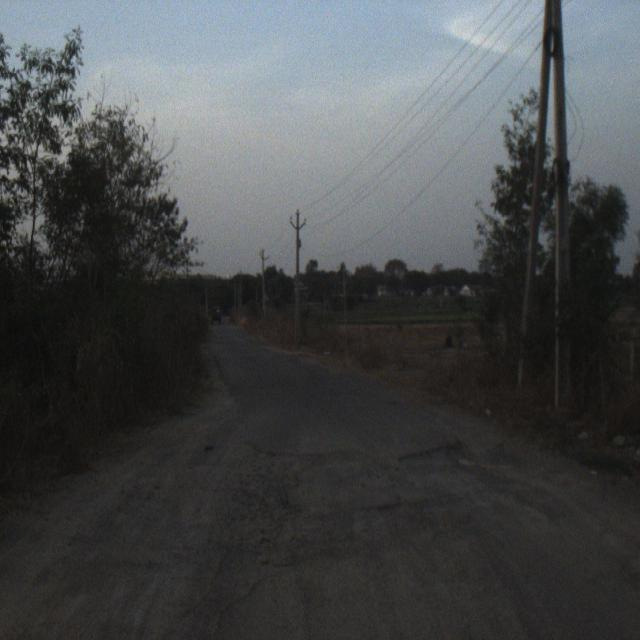pothole: (211, 385, 365, 640), (377, 409, 518, 542), (111, 468, 200, 640)
